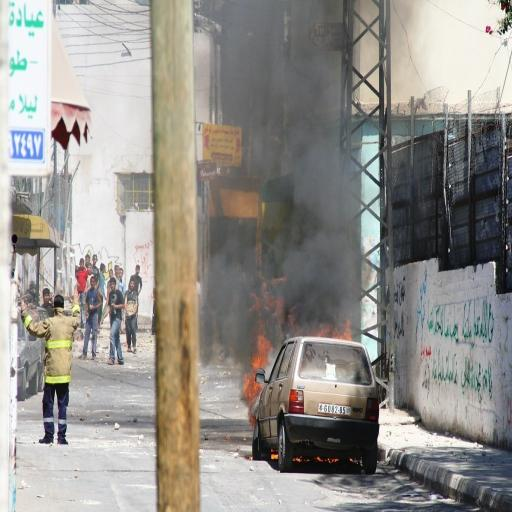fire: (243, 283, 284, 427), (243, 287, 284, 428), (243, 286, 275, 427), (243, 322, 272, 427), (243, 333, 272, 427), (287, 307, 351, 340), (288, 309, 351, 340), (262, 278, 285, 332), (262, 278, 284, 328), (316, 316, 351, 340), (251, 334, 271, 369), (293, 456, 340, 464), (293, 456, 339, 464), (286, 306, 297, 333), (340, 315, 351, 340), (249, 293, 260, 312), (271, 452, 278, 460)
